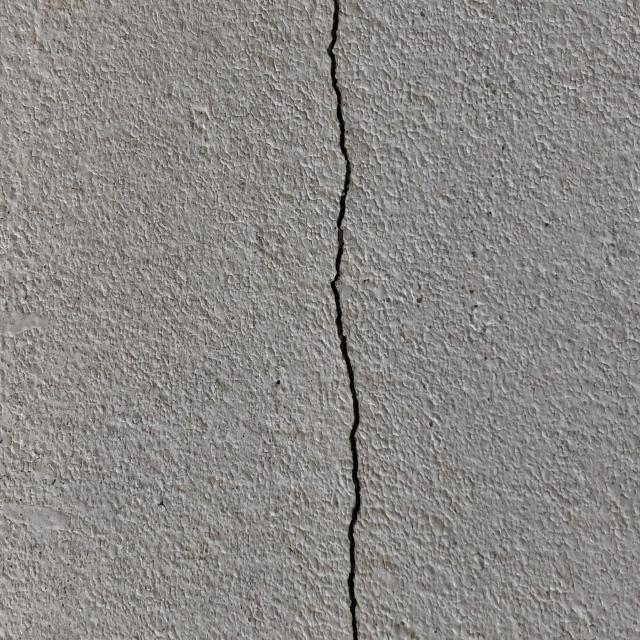SurfaceCrack: (279, 1, 412, 640)
